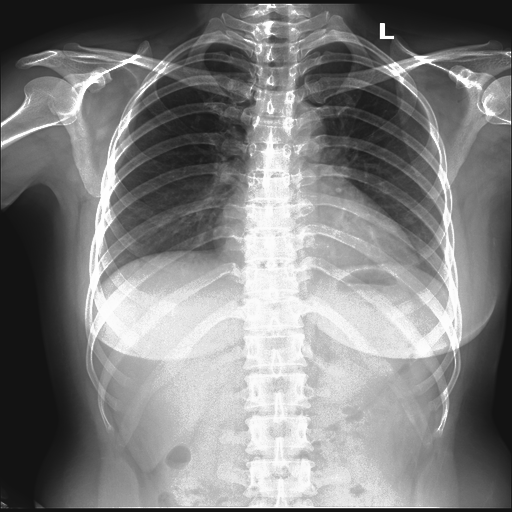Nodule/Mass: (216, 199, 418, 269)
